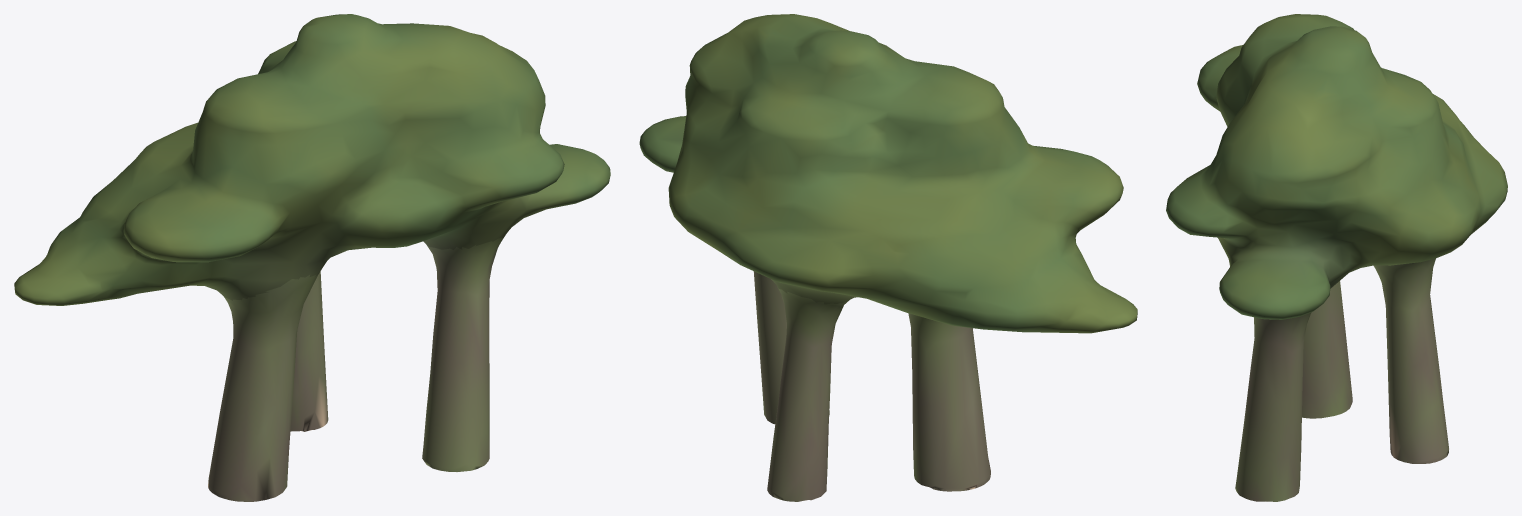
File: cluster3.glb
The picture shows the model from 3 angles, left to right: view 1: azimuth 30°, elevation 25°; view 2: azimuth 150°, elevation 25°; view 3: azimuth 270°, elevation 25°; orthographic projection. The views are drawn at different scales.
Visible parts, largest first — view 1: body; view 2: body; view 3: body.
Boxes of the visible parts, <box> form: body: <box>14,14,610,501</box>; body: <box>639,14,1137,501</box>; body: <box>1166,14,1507,501</box>.
Size of the model in its own units: 10.34 by 7.85 by 5.85.
